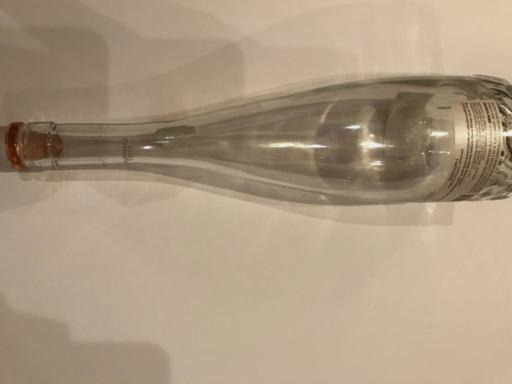glass: (1, 72, 512, 217)
